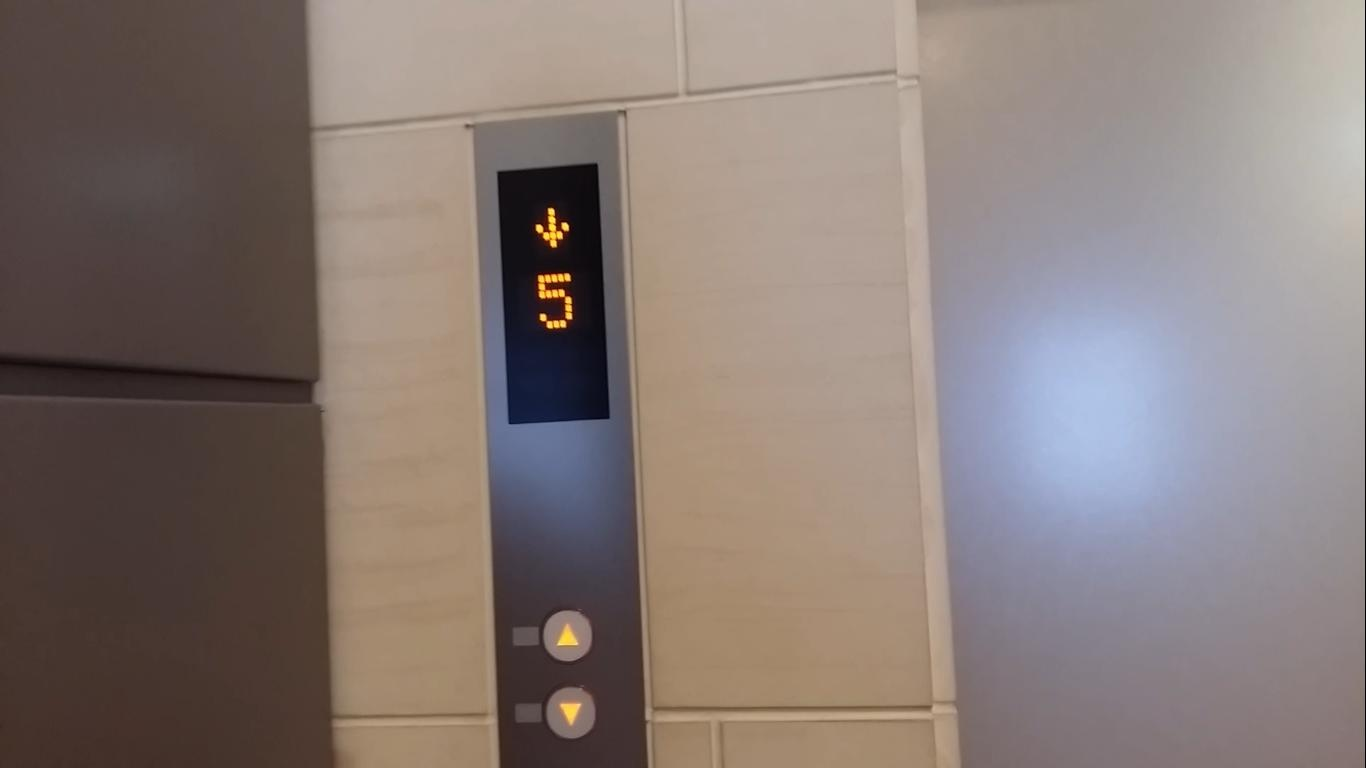down: (543, 683, 598, 742)
led: (496, 162, 615, 425)
up: (543, 607, 595, 665)
